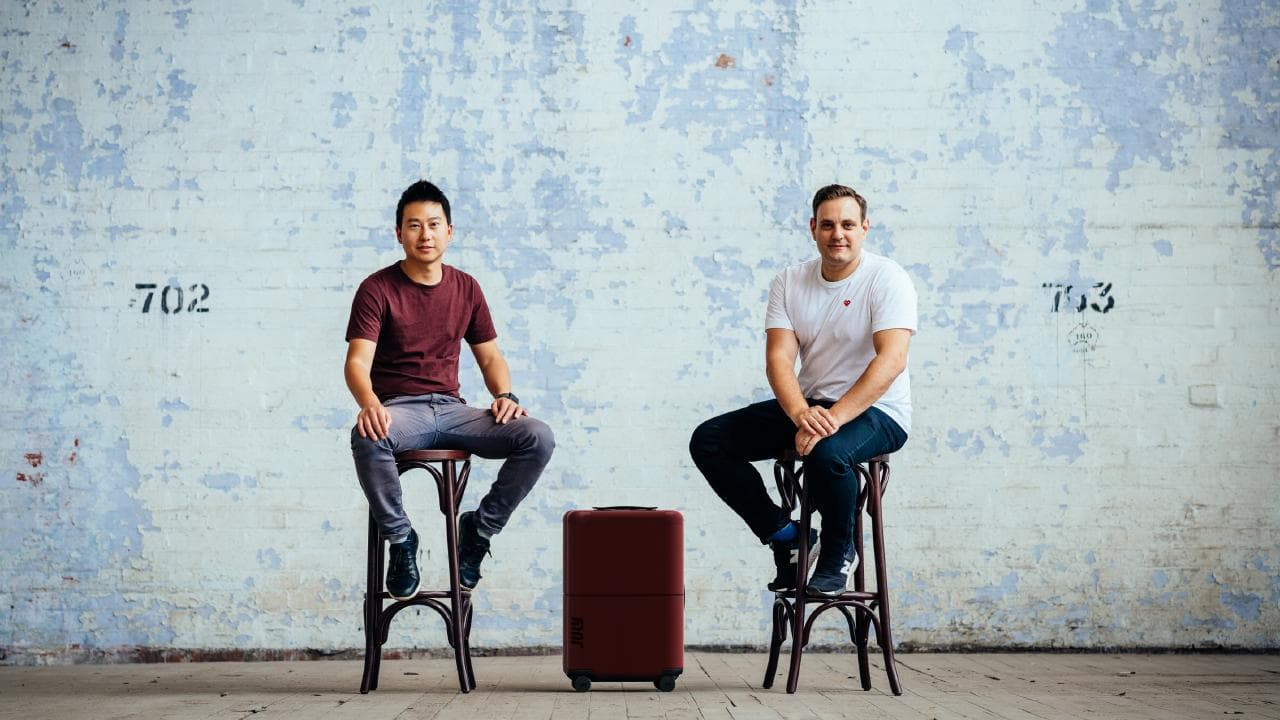luggage: (558, 498, 695, 700)
